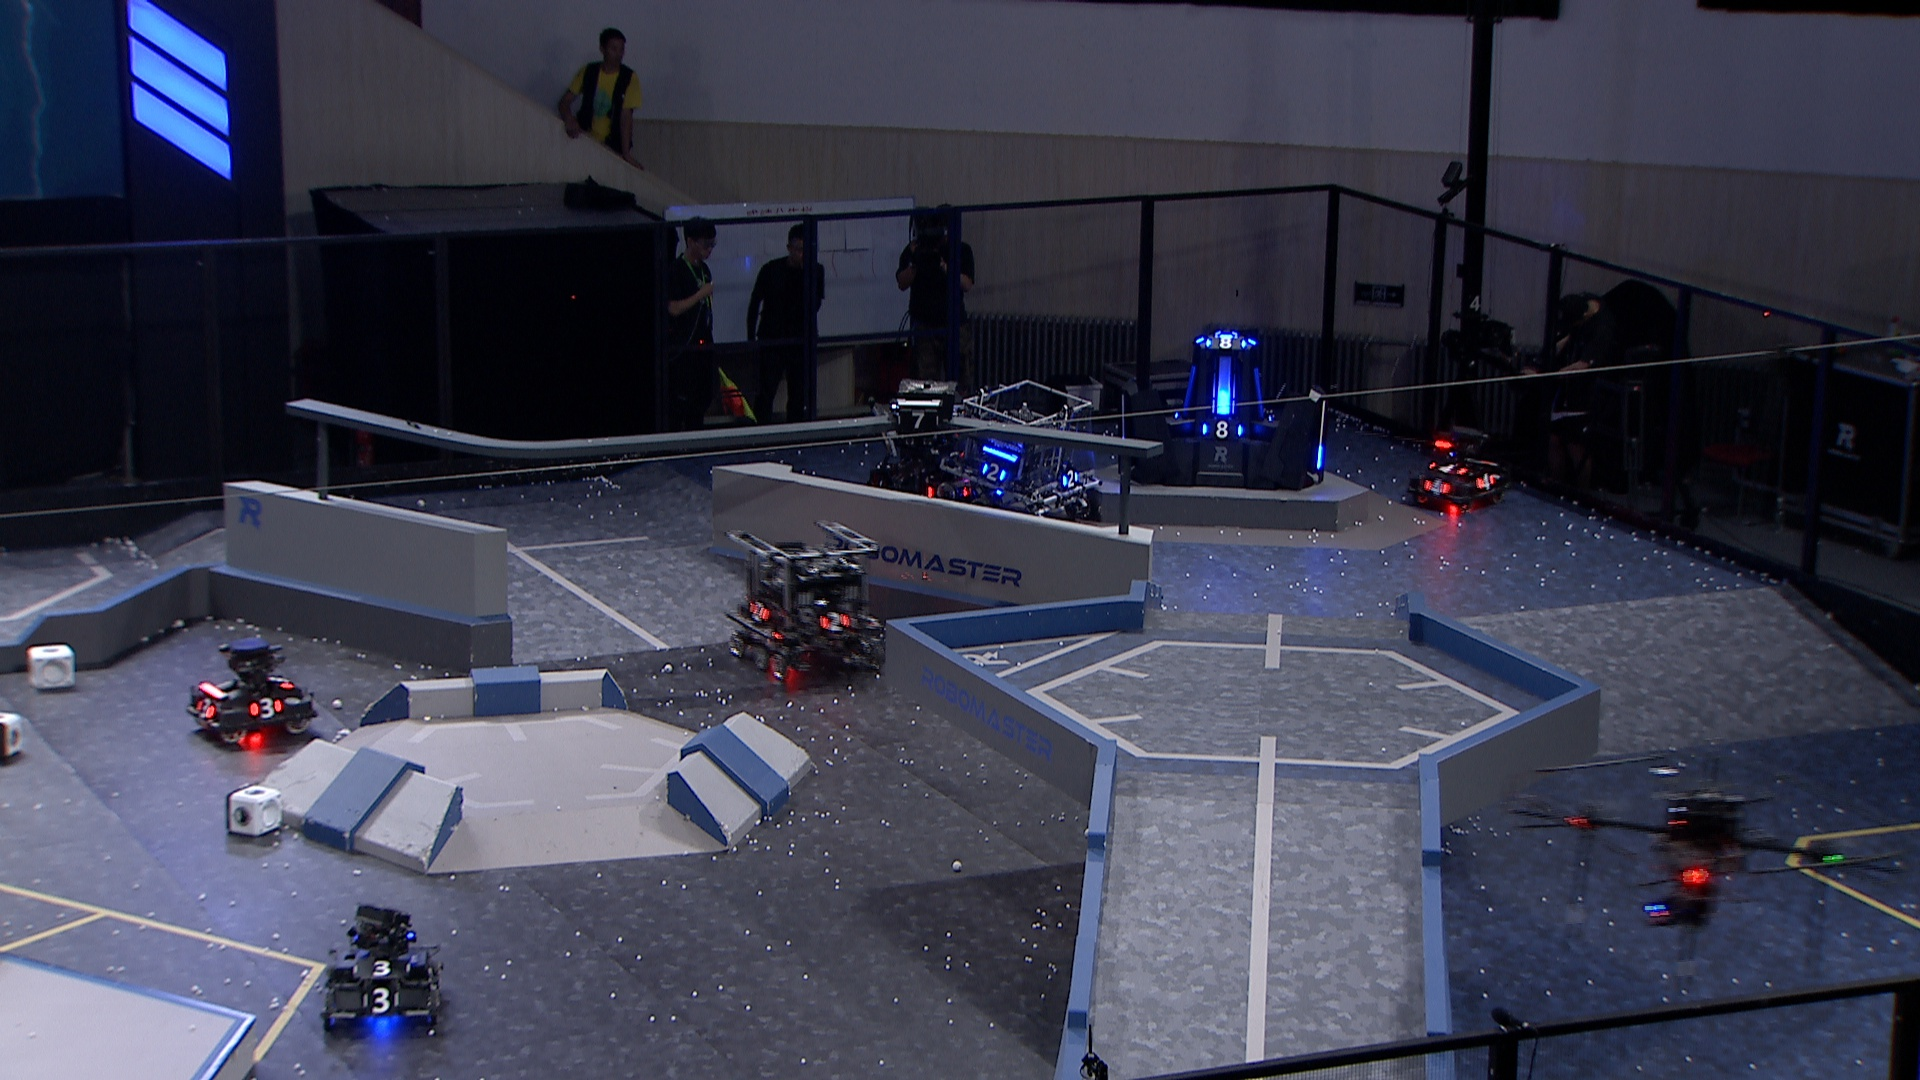armor: (352, 957, 415, 977), (1178, 363, 1200, 418), (1250, 367, 1273, 419), (893, 409, 944, 431), (363, 986, 401, 1015), (1197, 419, 1247, 439), (814, 607, 849, 632), (249, 694, 285, 717), (1427, 458, 1466, 479), (1423, 475, 1456, 498), (978, 460, 1007, 485), (1205, 334, 1247, 351), (419, 965, 442, 994), (195, 695, 218, 723), (268, 671, 297, 692), (746, 600, 771, 624), (1474, 469, 1498, 493), (1216, 386, 1233, 418), (1060, 469, 1081, 489), (1313, 443, 1327, 472)
base: (1116, 327, 1335, 493)
car: (723, 517, 891, 683), (945, 377, 1102, 527), (319, 901, 446, 1035), (181, 641, 320, 746), (864, 404, 997, 512), (1403, 425, 1506, 510)
watcher: (887, 376, 961, 473)
